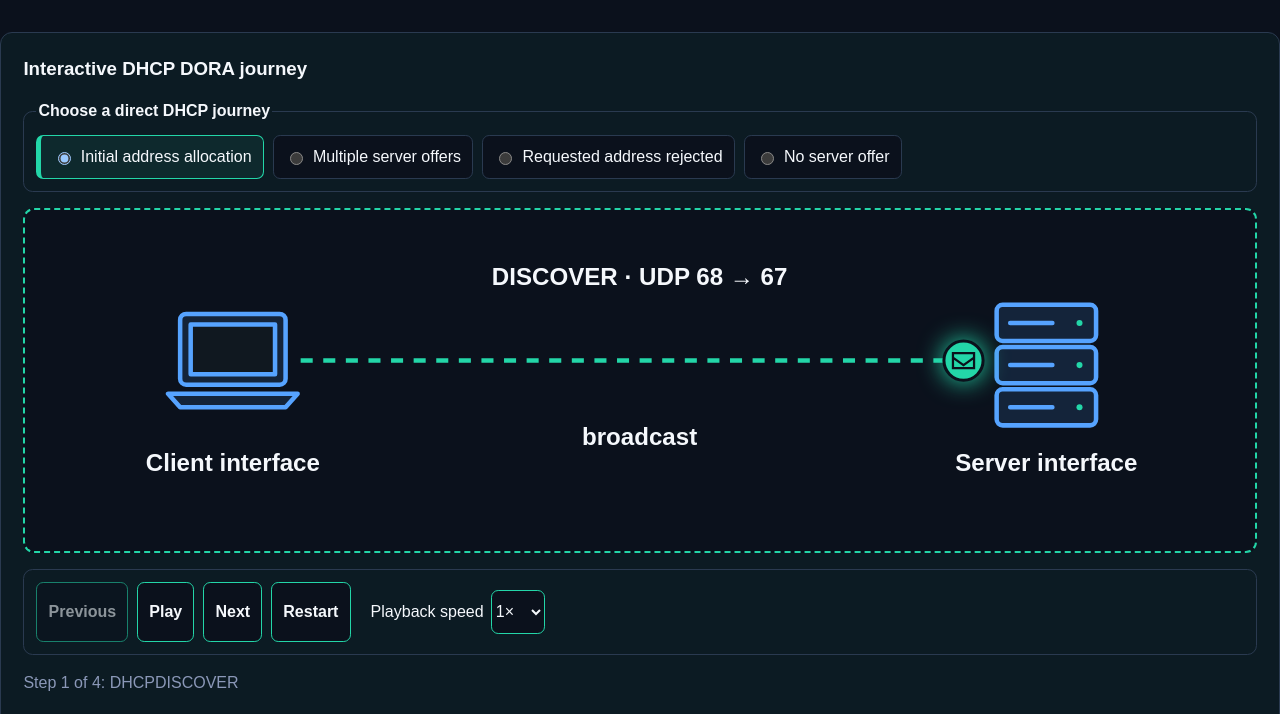
Test case: DoraPlayer › shows the no-offer terminal outcome without unsafe controls
Step 1. Click the radio button labelled "No server offer" → click(767, 159), box left=761, top=152, right=774, bottom=166
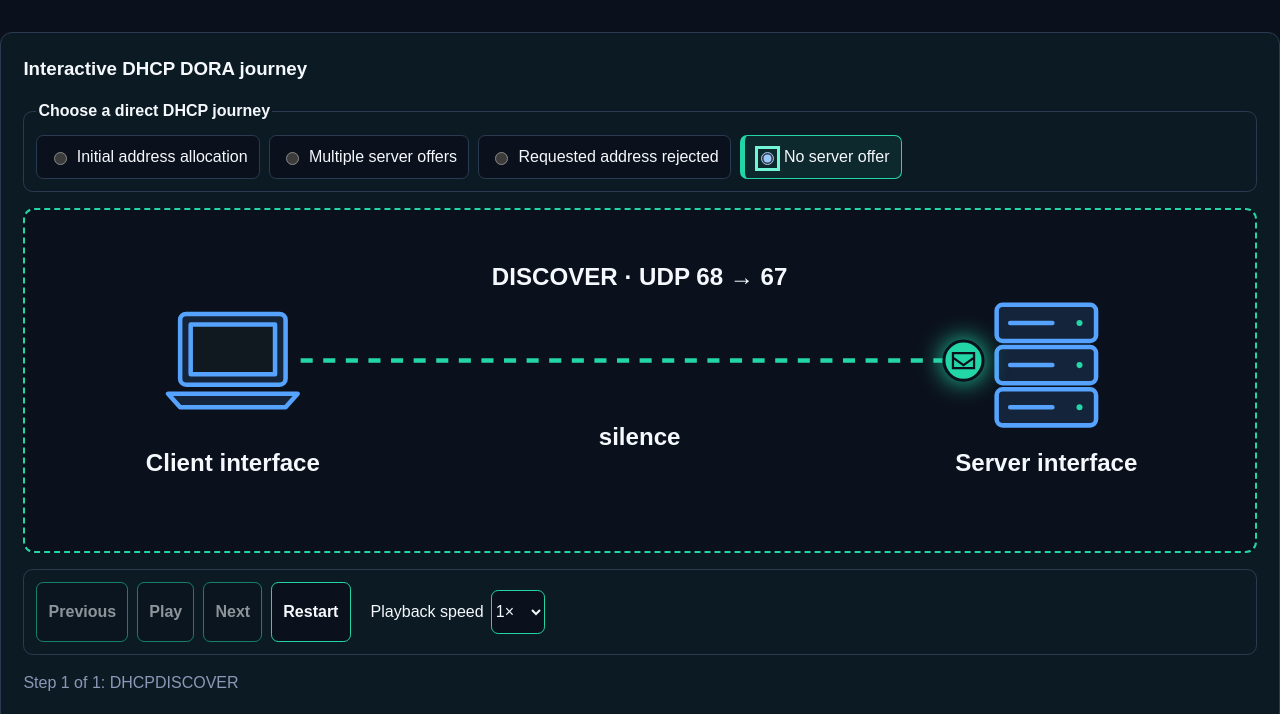
Check: the button "Next" is disabled, box left=203, top=582, right=262, bottom=642
